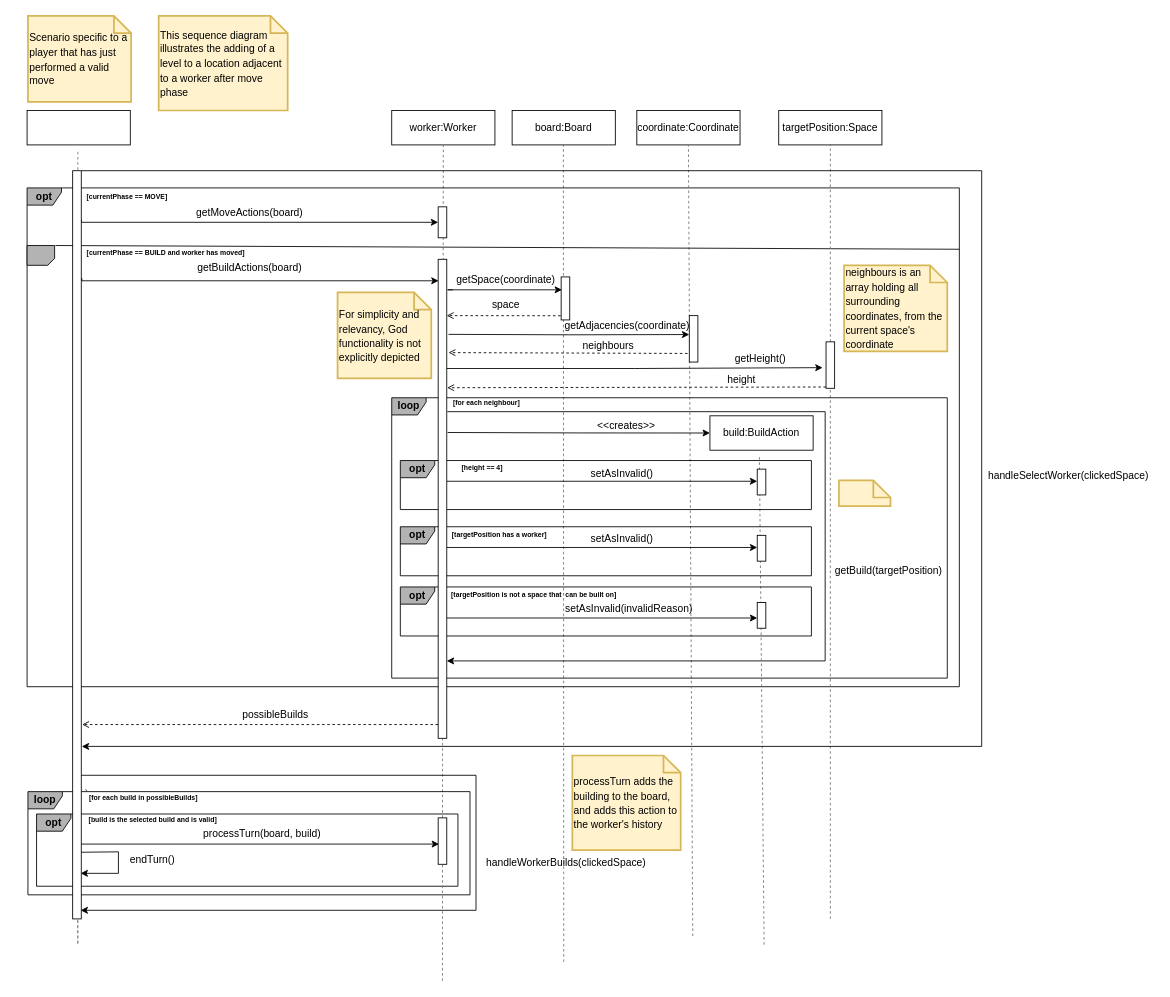
Image size: 1170x997. Some labels were removed from this diagram. The centre of each missing label's shape, as x and y in pixels:
":GameController" belongs at point (78, 127).
"alt" belongs at point (40, 255).
"dome" belongs at point (864, 493).
